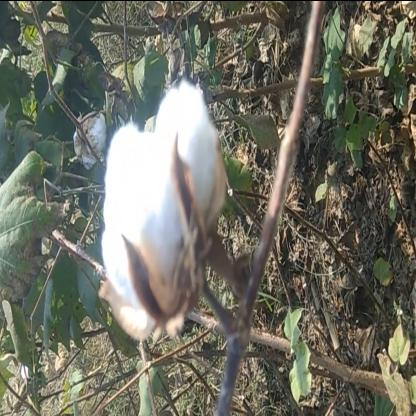cotton_ready: (74, 84, 256, 366)
